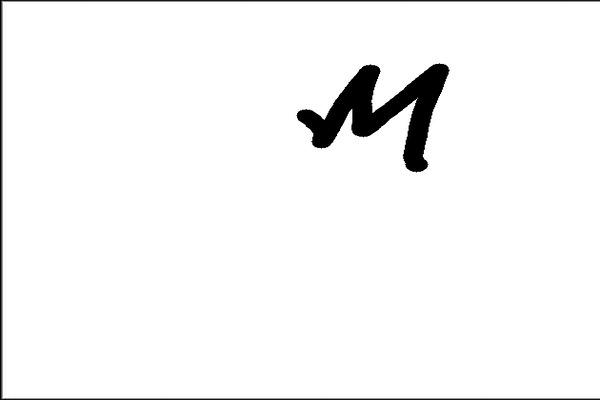M: (293, 58, 449, 174)
